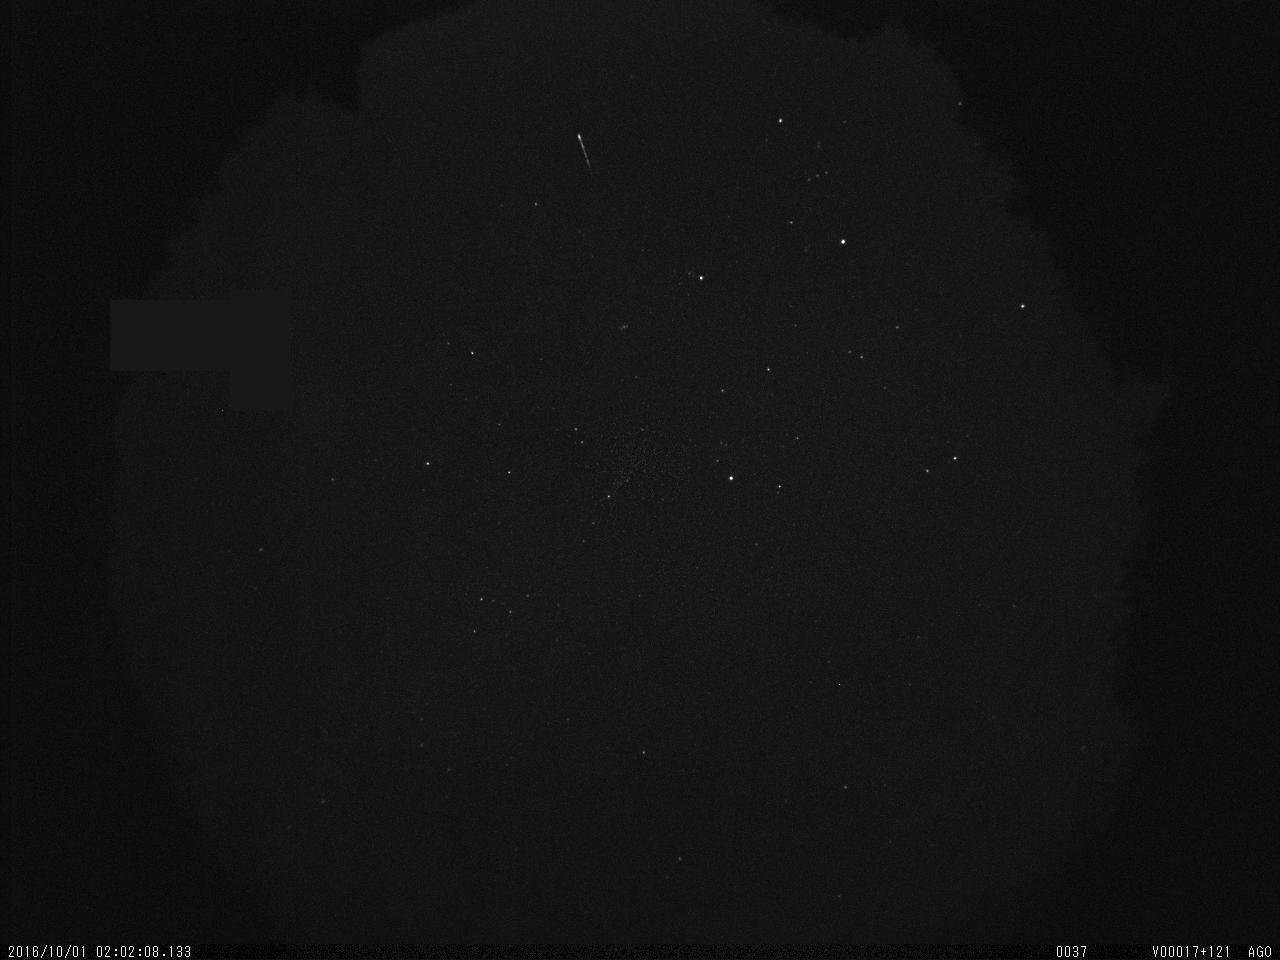meteor: (566, 128, 602, 175)
